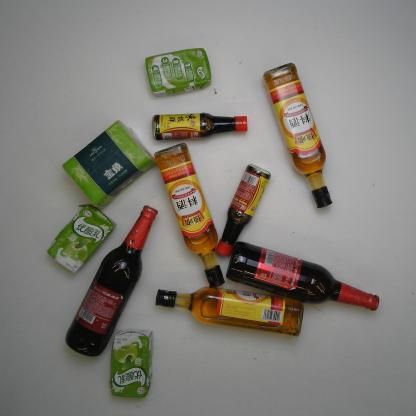Alcohol: (61, 202, 160, 361), (223, 237, 381, 315)
Milk: (44, 201, 117, 278), (142, 43, 214, 100), (104, 326, 154, 400)
Seasoner: (151, 140, 229, 289), (261, 59, 336, 213), (154, 278, 304, 338), (214, 158, 272, 258), (148, 107, 250, 142)
Tissue: (59, 115, 158, 210)
